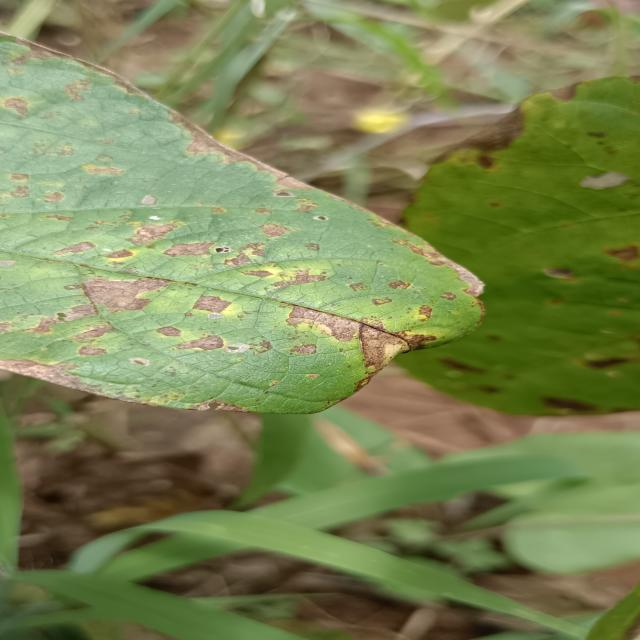Black gram_leaf spot: (0, 27, 501, 428), (377, 68, 640, 428)
